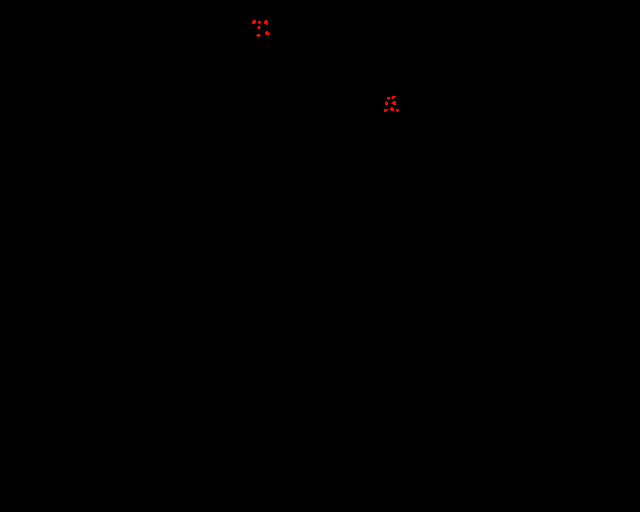Target: (264, 20, 268, 25), (265, 31, 270, 35), (252, 20, 256, 24), (392, 101, 396, 105), (390, 107, 394, 111), (256, 34, 261, 37), (391, 96, 396, 99), (257, 26, 261, 29), (385, 101, 388, 105), (384, 109, 388, 112), (258, 21, 261, 24), (387, 97, 390, 100), (396, 109, 399, 112)
